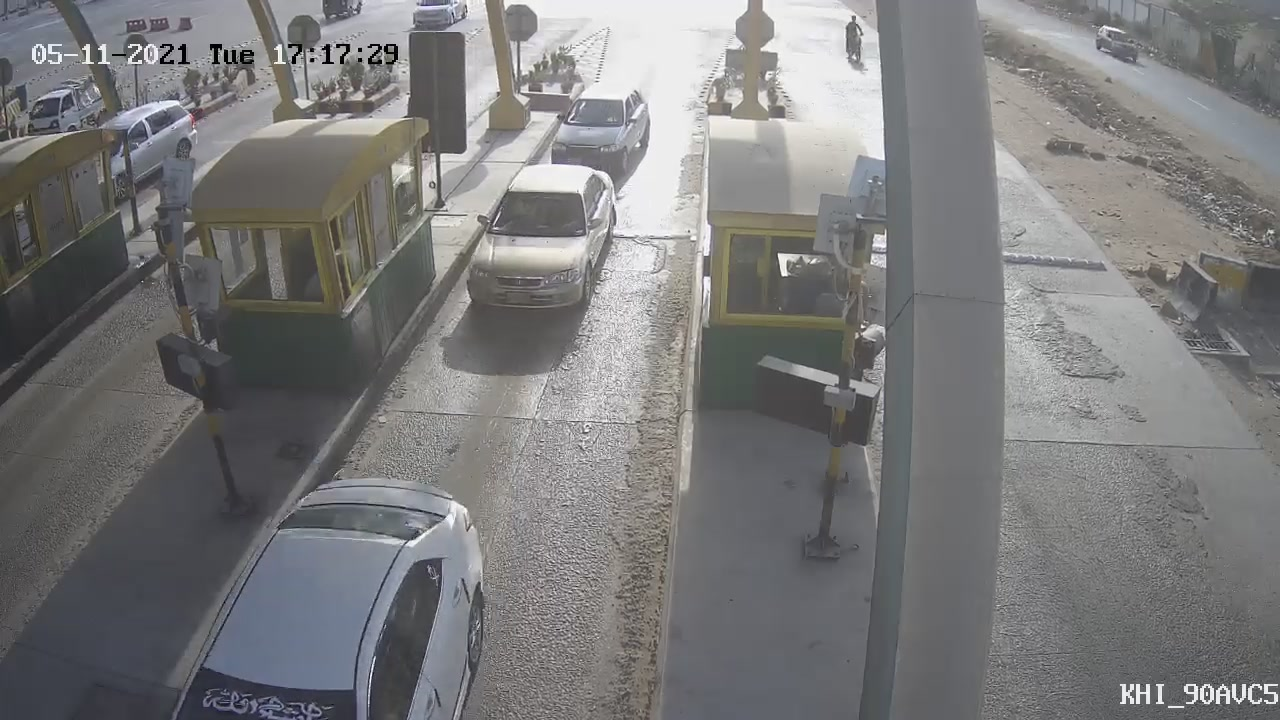F1: (451, 149, 633, 334), (535, 73, 661, 196)
